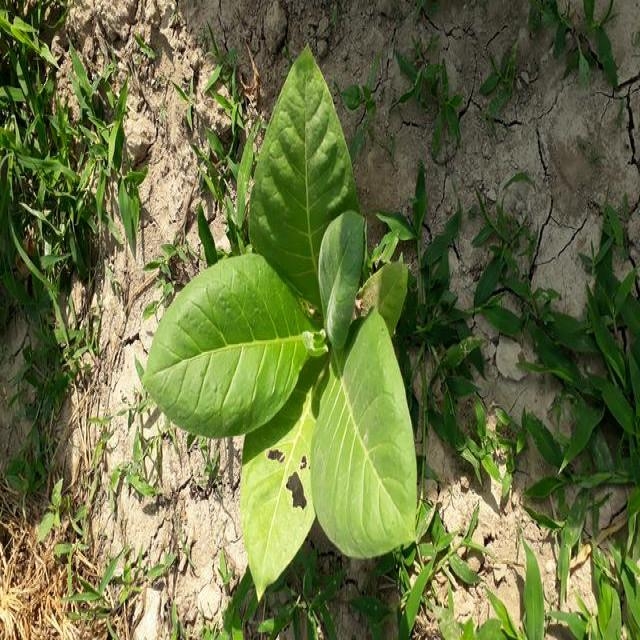crop: (165, 55, 418, 590)
